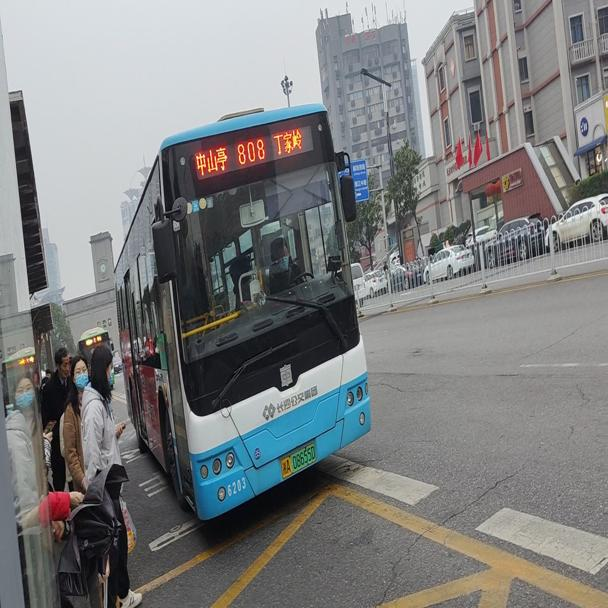bus: (114, 90, 375, 523), (76, 319, 113, 382)
screen: (229, 131, 270, 171)
